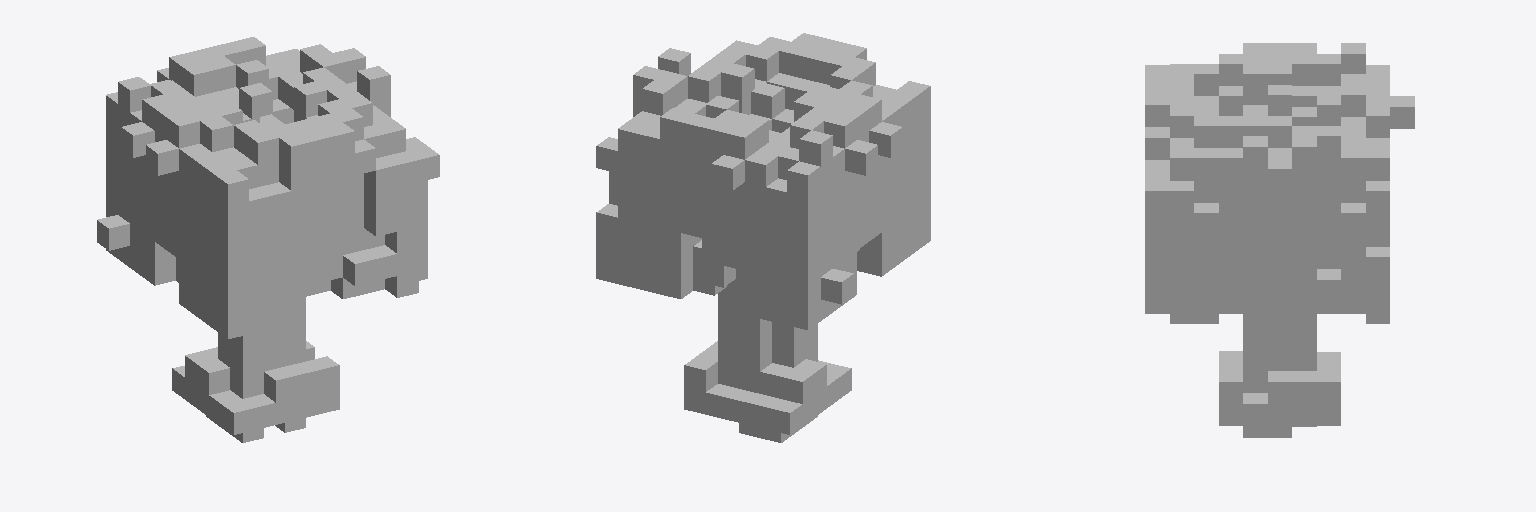
The model's file is irishtree.obj.
3 renders of one model, left to right at view 1: azimuth 30°, elevation 25°; view 2: azimuth 150°, elevation 25°; view 3: azimuth 270°, elevation 25°, orthographic.
Visible parts, largest first — view 1: Mesh_0; view 2: Mesh_0; view 3: Mesh_0.
Boxes of the visible parts, x1,y1,x2,y2 form: Mesh_0: [97, 37, 439, 442]; Mesh_0: [596, 33, 930, 442]; Mesh_0: [1145, 43, 1414, 437].
Bounding box in the file's own units: 1.1 × 1.5 × 1.1.